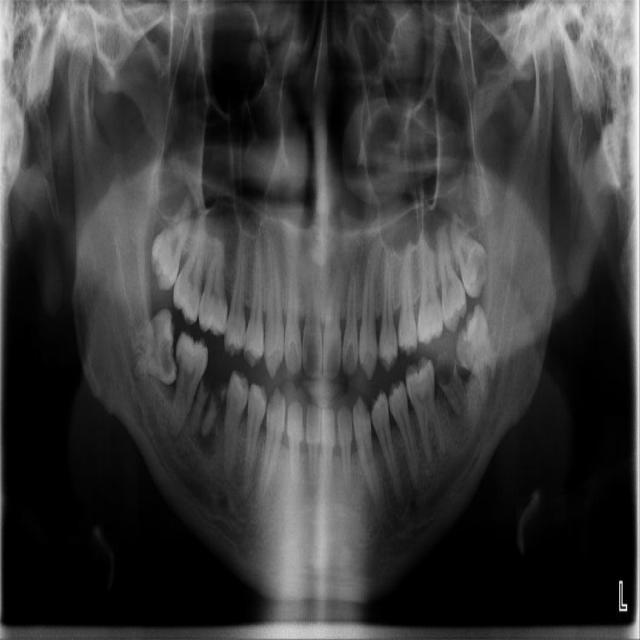3M ESPE Implant: (141, 191, 199, 293)
52: (197, 372, 227, 409), (432, 348, 459, 386)
73: (604, 583, 616, 601)
BioHorizons Implant: (433, 223, 470, 333)
BioLife Implant: (442, 207, 498, 301)
Biomet 3i Implant: (445, 302, 505, 407)
Blue Sky Bio Implant: (429, 348, 472, 419)
Caries: (168, 208, 213, 327)
Implant: (168, 330, 210, 442)
Keystone Dental Implant: (127, 308, 179, 389)
